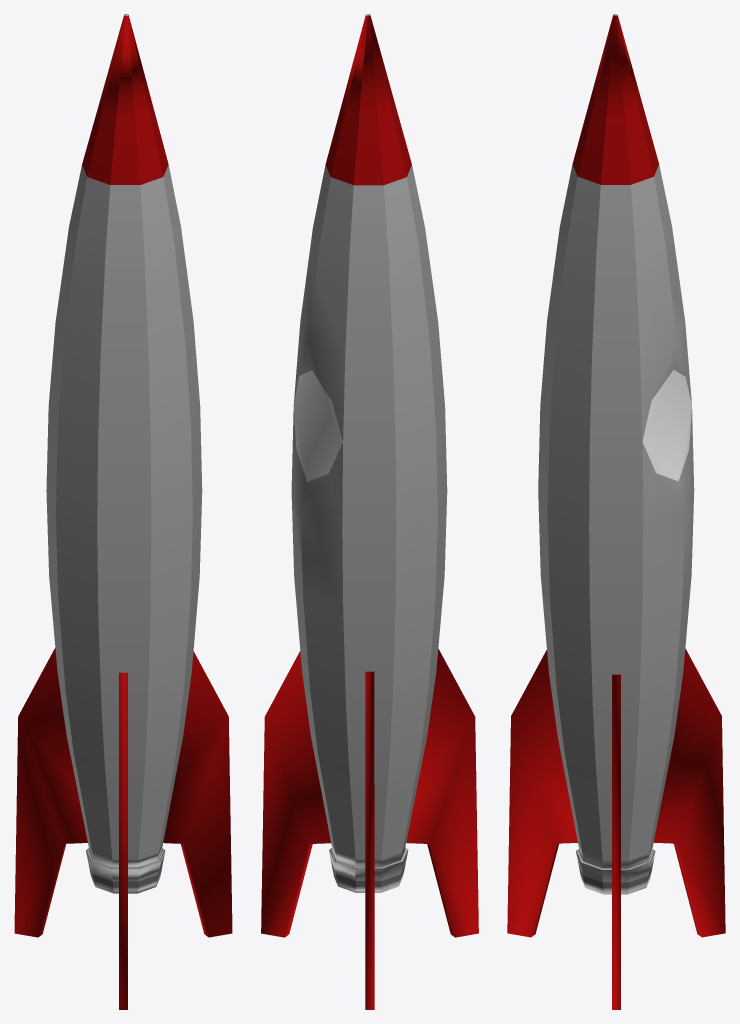
File: RocketPrefab.fbx
The picture shows the model from 3 angles, left to right: view 1: azimuth 30°, elevation 25°; view 2: azimuth 150°, elevation 25°; view 3: azimuth 270°, elevation 25°; orthographic projection.
Parts seen in each view (by area): view 1: roket:Cylinder002; view 2: roket:Cylinder002; view 3: roket:Cylinder002.
Part boxes in pixels (x1,y1,x2,y2): roket:Cylinder002: [14, 14, 232, 1009]; roket:Cylinder002: [261, 14, 478, 1009]; roket:Cylinder002: [507, 14, 725, 1009].
Bounding box in the file's own units: 5.56 × 28.7 × 6.02.
